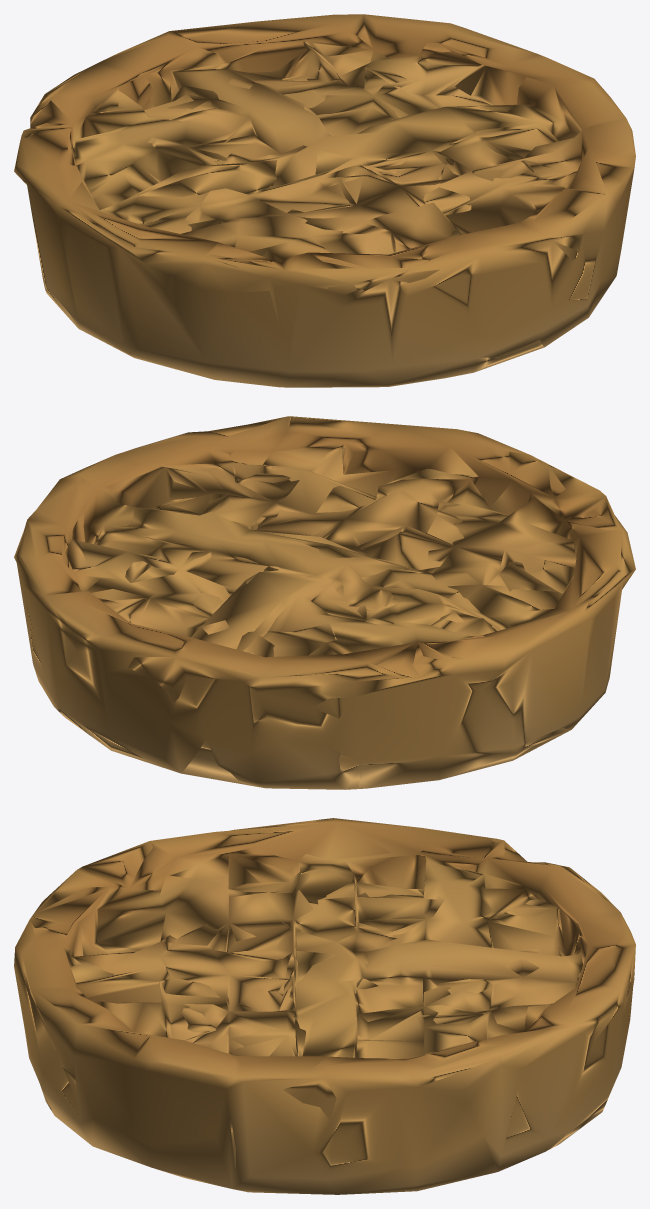
The model's file is gen3d-pie-lod0.glb.
3 renders of one model, top to bottom at view 1: azimuth 30°, elevation 25°; view 2: azimuth 150°, elevation 25°; view 3: azimuth 270°, elevation 25°, orthographic.
Parts seen in each view (by area): view 1: part_0; view 2: part_0; view 3: part_0.
Boxes of the visible parts, x1,y1,x2,y2 form: part_0: [14, 14, 635, 387]; part_0: [14, 416, 635, 789]; part_0: [14, 818, 635, 1194].
Size of the model in its own units: 4.28 by 0.9934 by 4.26.
